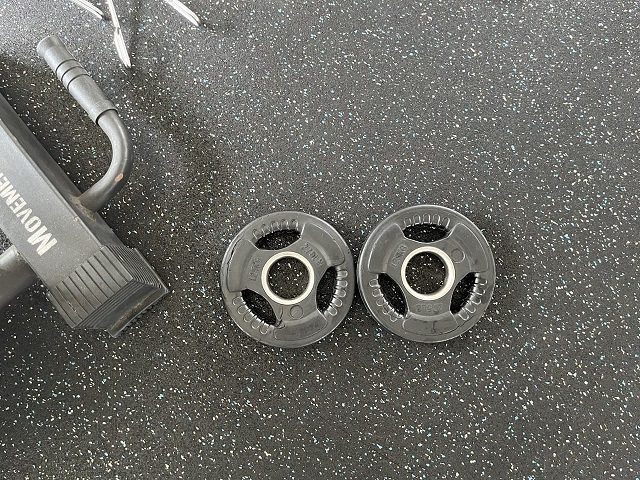weights: (354, 202, 498, 346), (217, 212, 356, 350)
